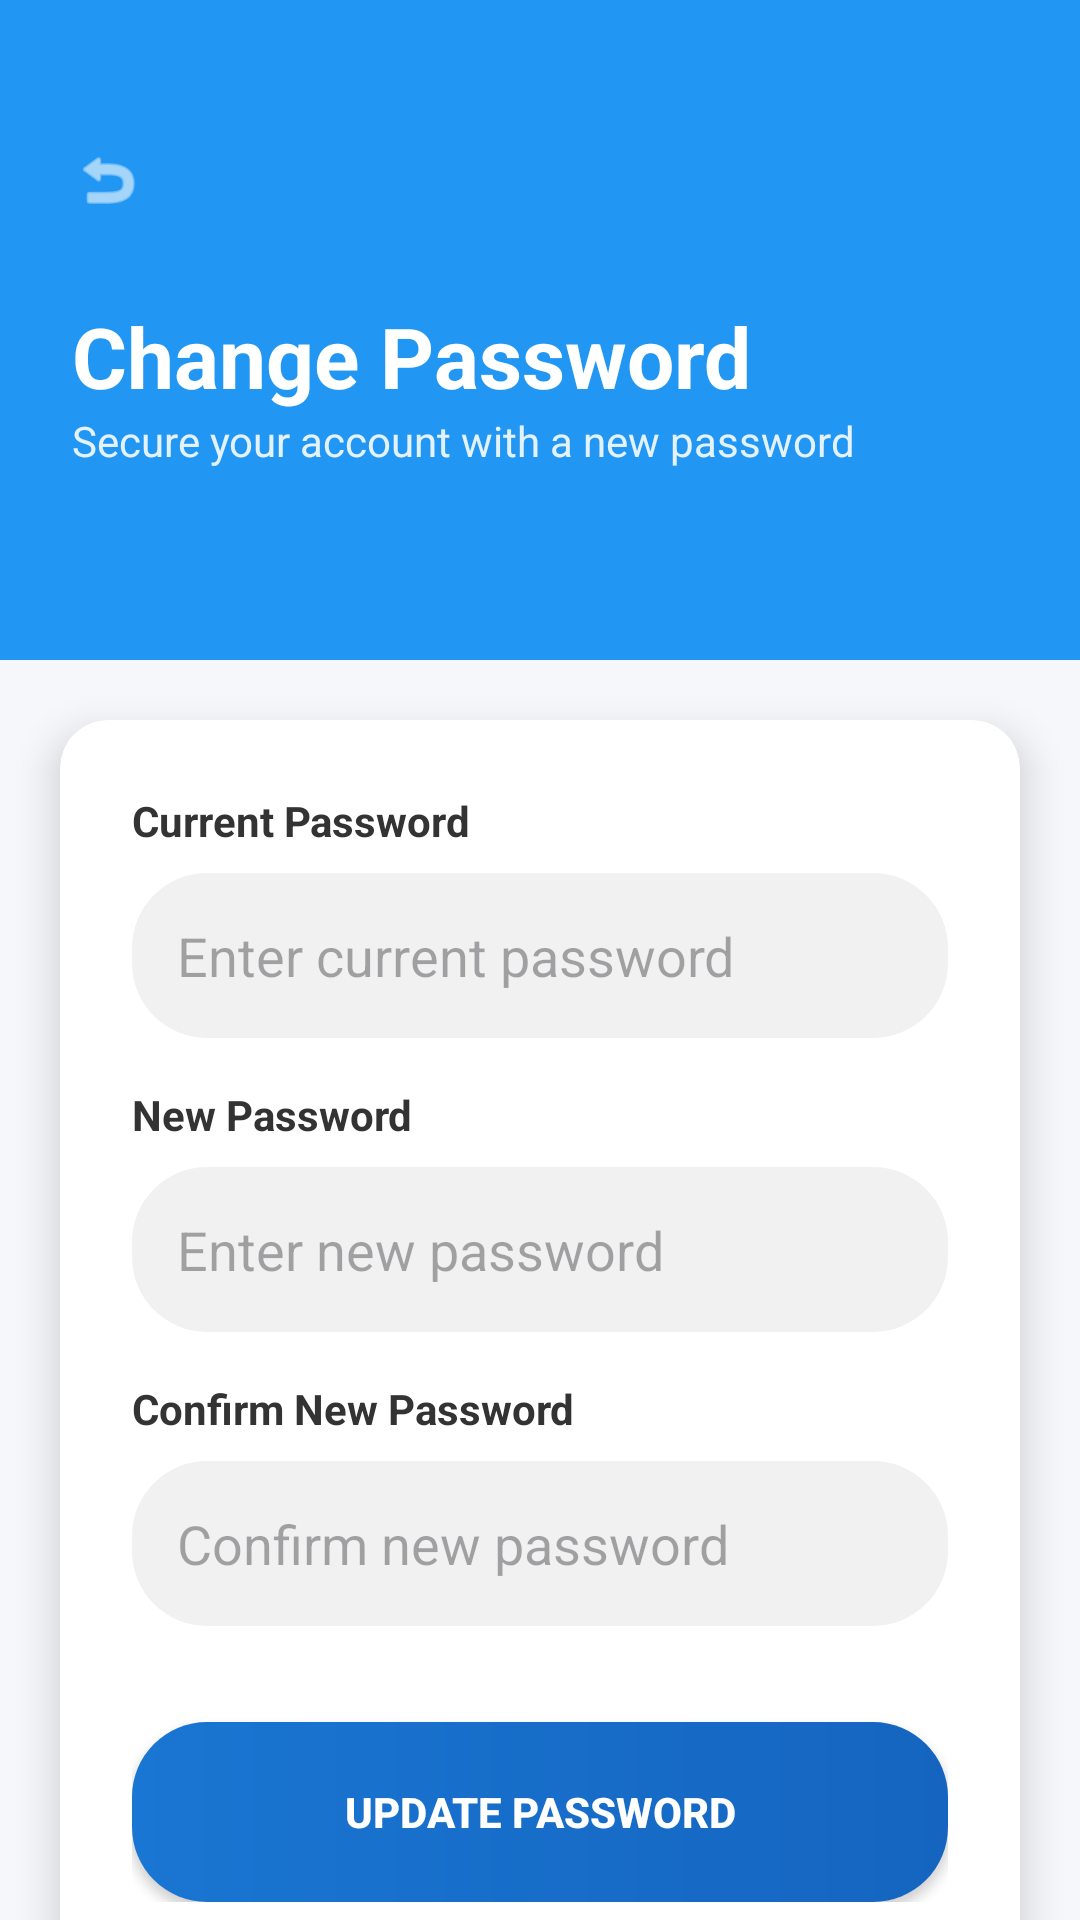

Named icons in this screenshot (1080w x 1920h) and their centers, [x,y]:
revert: [109,180]
